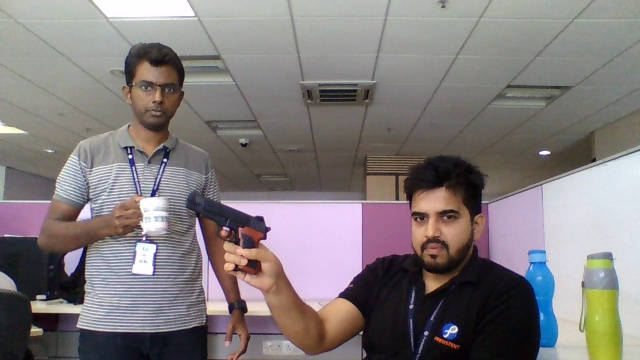gun: (185, 189, 272, 239)
